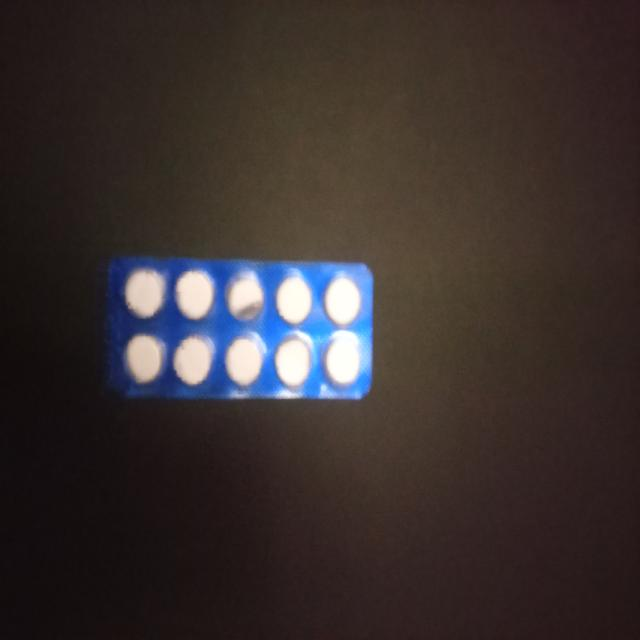defect: (223, 269, 268, 326)
